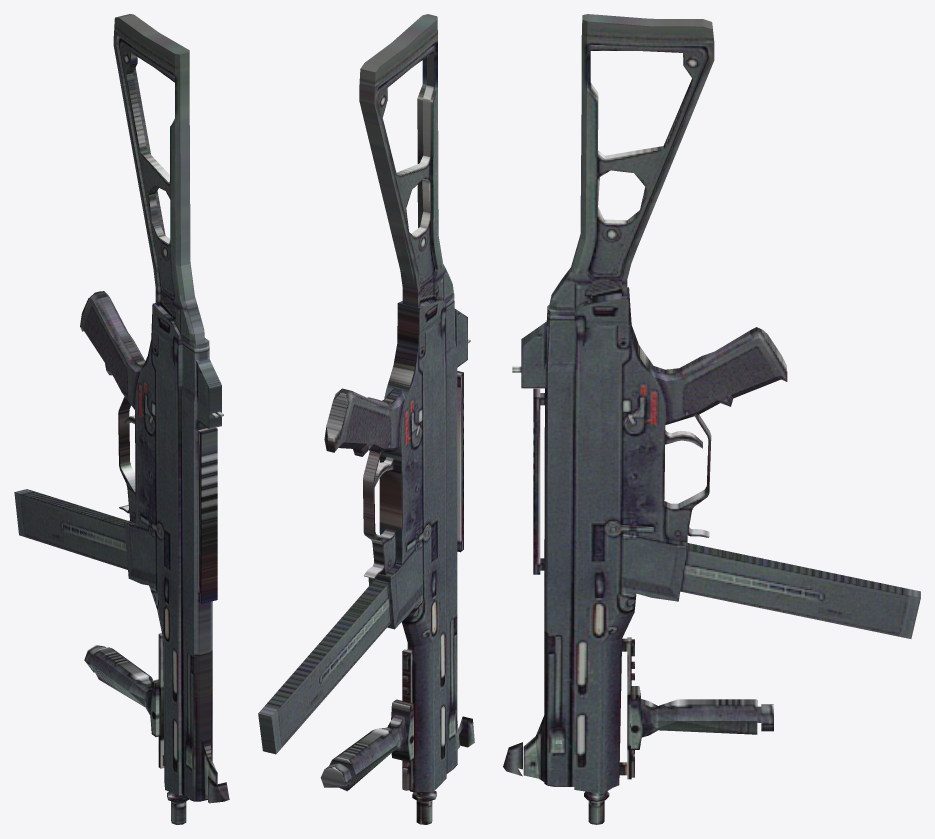
File: UMP1380_wtf.obj
3 views of the same model, side by side, from view 1: azimuth 30°, elevation 25°; view 2: azimuth 150°, elevation 25°; view 3: azimuth 270°, elevation 25° (orthographic). The views are drawn at different scales.
Visible parts, largest first — view 1: group4, group5, group2; view 2: group4, group2, group5; view 3: group4, group2.
Part boxes in pixels (x1,y1,x2,y2): group4: (14, 14, 223, 824); group5: (208, 760, 229, 803); group2: (84, 660, 144, 706); group4: (258, 14, 470, 824); group2: (321, 740, 399, 791); group5: (457, 716, 474, 747); group4: (512, 14, 920, 824); group2: (656, 720, 773, 734).
Bounding box in the file's own units: 24.24 × 660 × 311.
